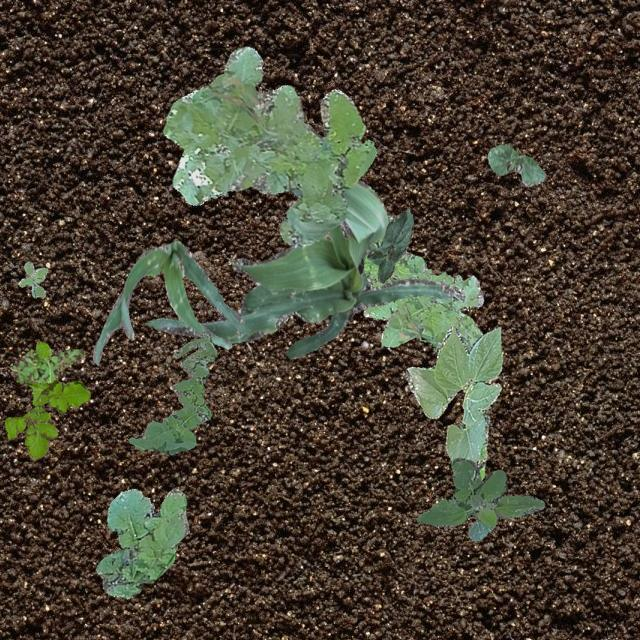crop: (144, 178, 454, 358), (92, 240, 248, 364), (404, 326, 502, 478), (367, 208, 412, 282), (486, 142, 546, 185)
weed: (162, 46, 376, 246), (362, 236, 482, 350), (416, 456, 544, 540), (127, 332, 215, 454), (94, 487, 188, 598), (3, 341, 88, 458), (11, 348, 84, 382), (18, 260, 46, 296)
